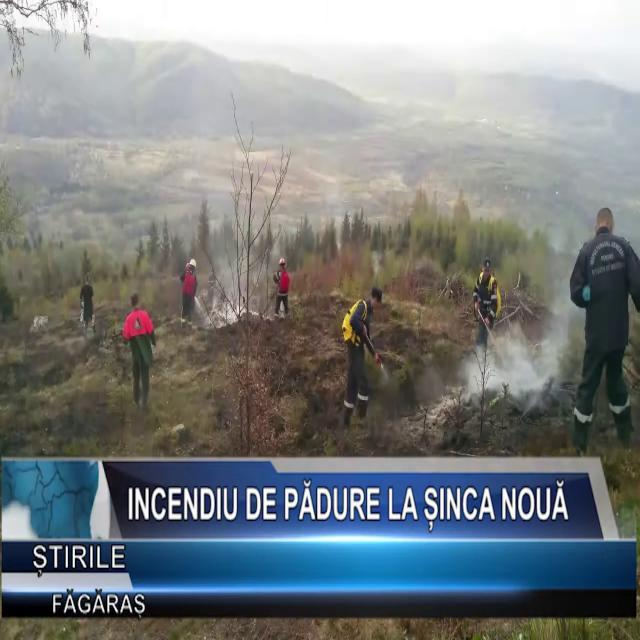Smoke: (458, 279, 580, 416)
